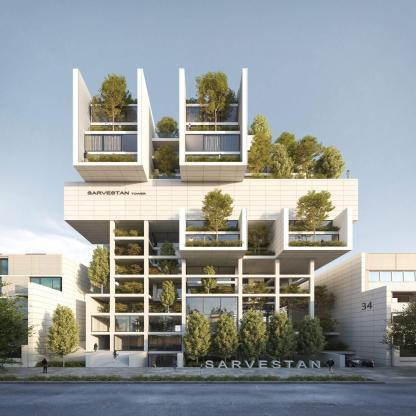Balcony: (244, 171, 358, 179), (79, 154, 138, 162), (185, 154, 242, 162), (184, 240, 242, 247), (290, 240, 348, 247), (186, 125, 240, 131), (91, 125, 137, 131), (150, 174, 180, 179), (151, 133, 179, 138), (152, 151, 180, 156)
Blind: (85, 134, 122, 152), (204, 134, 240, 151), (186, 107, 221, 122), (109, 106, 137, 122), (289, 235, 321, 247), (204, 220, 238, 231), (185, 154, 223, 162), (185, 235, 205, 247)
Building Outline: (49, 68, 385, 368)
Deco: (205, 361, 321, 369), (87, 191, 147, 195)
Door: (114, 334, 144, 351), (148, 353, 177, 367)
Facade: (64, 68, 359, 368)
Floor Slab: (110, 255, 274, 258), (86, 332, 314, 334), (86, 294, 242, 296), (284, 247, 353, 250), (180, 247, 247, 250), (86, 313, 186, 315), (110, 275, 186, 277), (289, 231, 339, 234), (180, 232, 240, 234), (110, 237, 148, 239)
Glass Wall: (186, 297, 238, 332), (243, 305, 288, 329), (85, 134, 137, 152), (186, 134, 240, 151), (243, 355, 310, 368), (186, 107, 238, 123), (90, 106, 137, 122), (186, 267, 235, 281), (186, 354, 238, 367), (185, 235, 240, 247), (289, 234, 339, 247), (187, 220, 239, 232), (149, 316, 182, 332), (148, 335, 181, 351), (289, 221, 333, 232), (115, 316, 144, 332), (186, 284, 235, 293), (185, 154, 240, 162), (153, 249, 182, 264), (152, 233, 180, 247), (85, 155, 137, 162), (157, 284, 182, 298), (187, 125, 240, 131), (85, 125, 137, 131), (92, 316, 110, 331), (150, 305, 182, 313), (153, 267, 181, 275), (245, 166, 267, 173), (244, 250, 267, 256), (131, 305, 144, 312), (116, 305, 128, 312), (153, 176, 181, 179), (164, 169, 180, 174), (244, 176, 267, 179), (243, 274, 248, 287), (243, 289, 248, 302)
